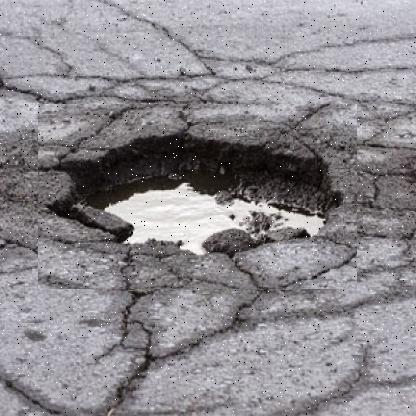pothole_water: (37, 104, 357, 290)
